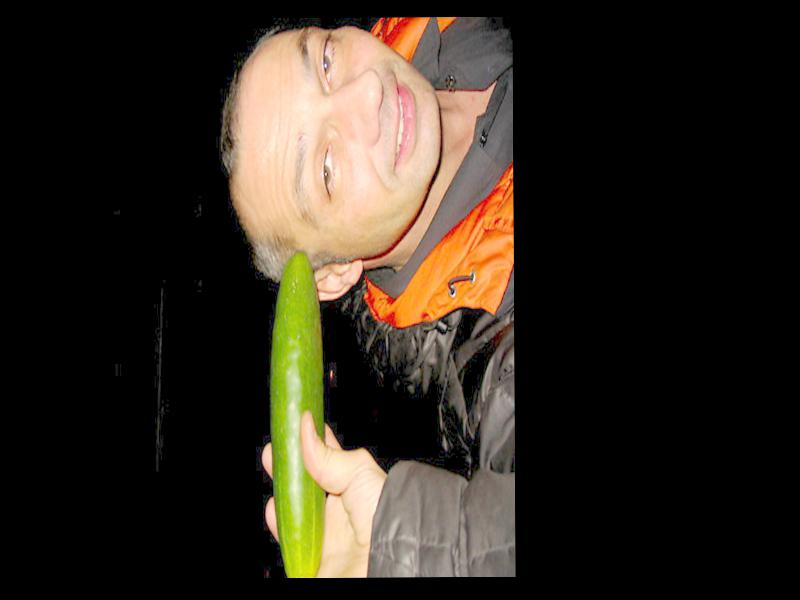Cucumber: (271, 249, 325, 576)
